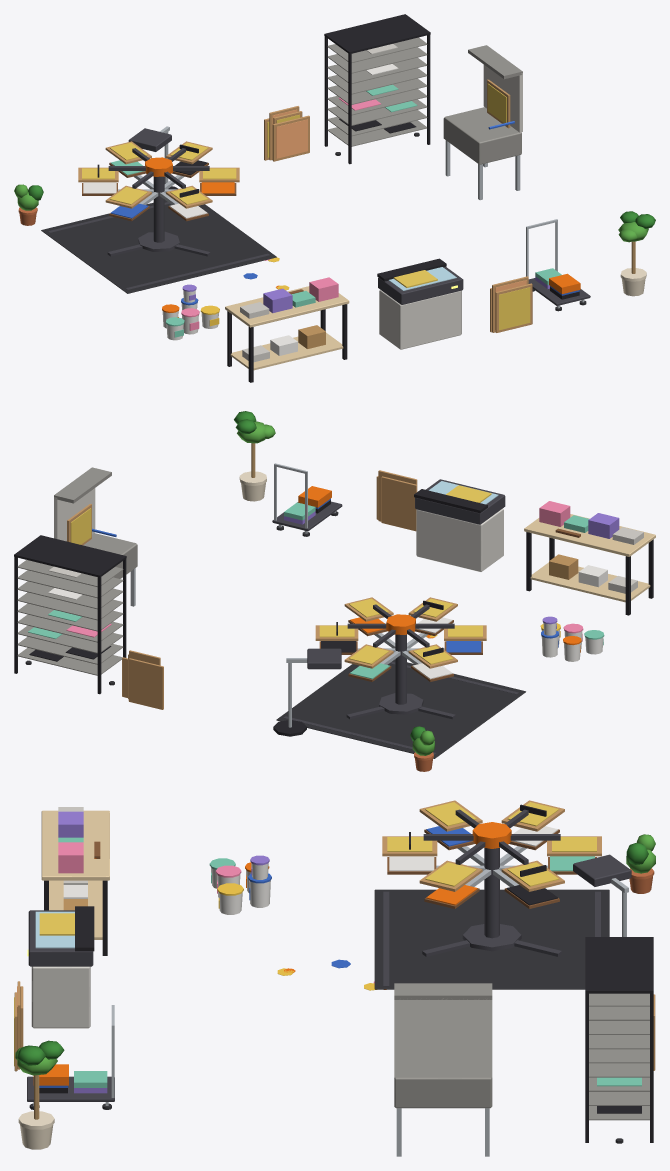
File: einrichtung_siebdruck.glb
3 renders of one model, top to bottom at view 1: azimuth 30°, elevation 25°; view 2: azimuth 150°, elevation 25°; view 3: azimuth 270°, elevation 25°, orthographic. The views are drawn at different scales.
Visible parts, largest first — view 1: einrichtung_siebdruck; view 2: einrichtung_siebdruck; view 3: einrichtung_siebdruck.
Boxes of the visible parts, x1=… form: einrichtung_siebdruck: x1=14, y1=14, x2=655, y2=382; einrichtung_siebdruck: x1=14, y1=411, x2=655, y2=771; einrichtung_siebdruck: x1=14, y1=800, x2=655, y2=1156.
Bounding box in the file's own units: 6.71 × 1.82 × 6.55.
